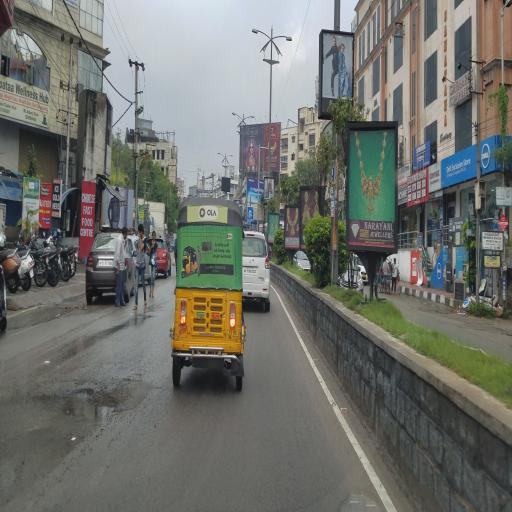street_light_0: (269, 23, 303, 49), (248, 19, 271, 48), (226, 100, 242, 130), (242, 108, 262, 130), (224, 146, 236, 162), (212, 146, 224, 162)
